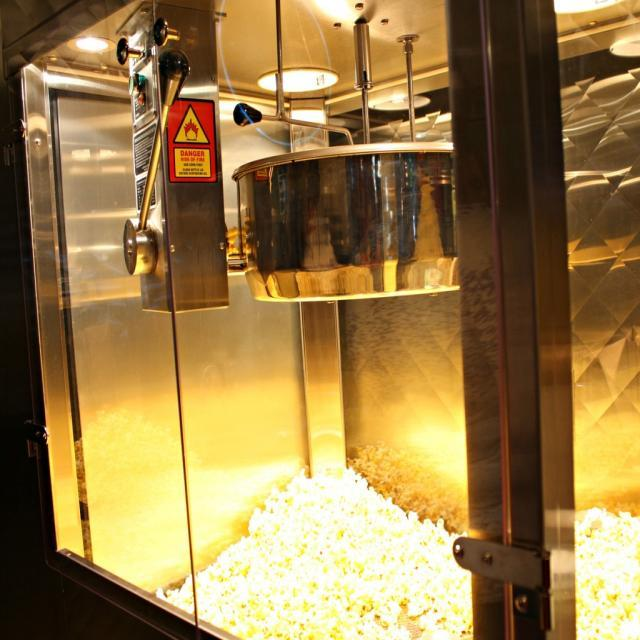Popcorn: (158, 470, 640, 640)
